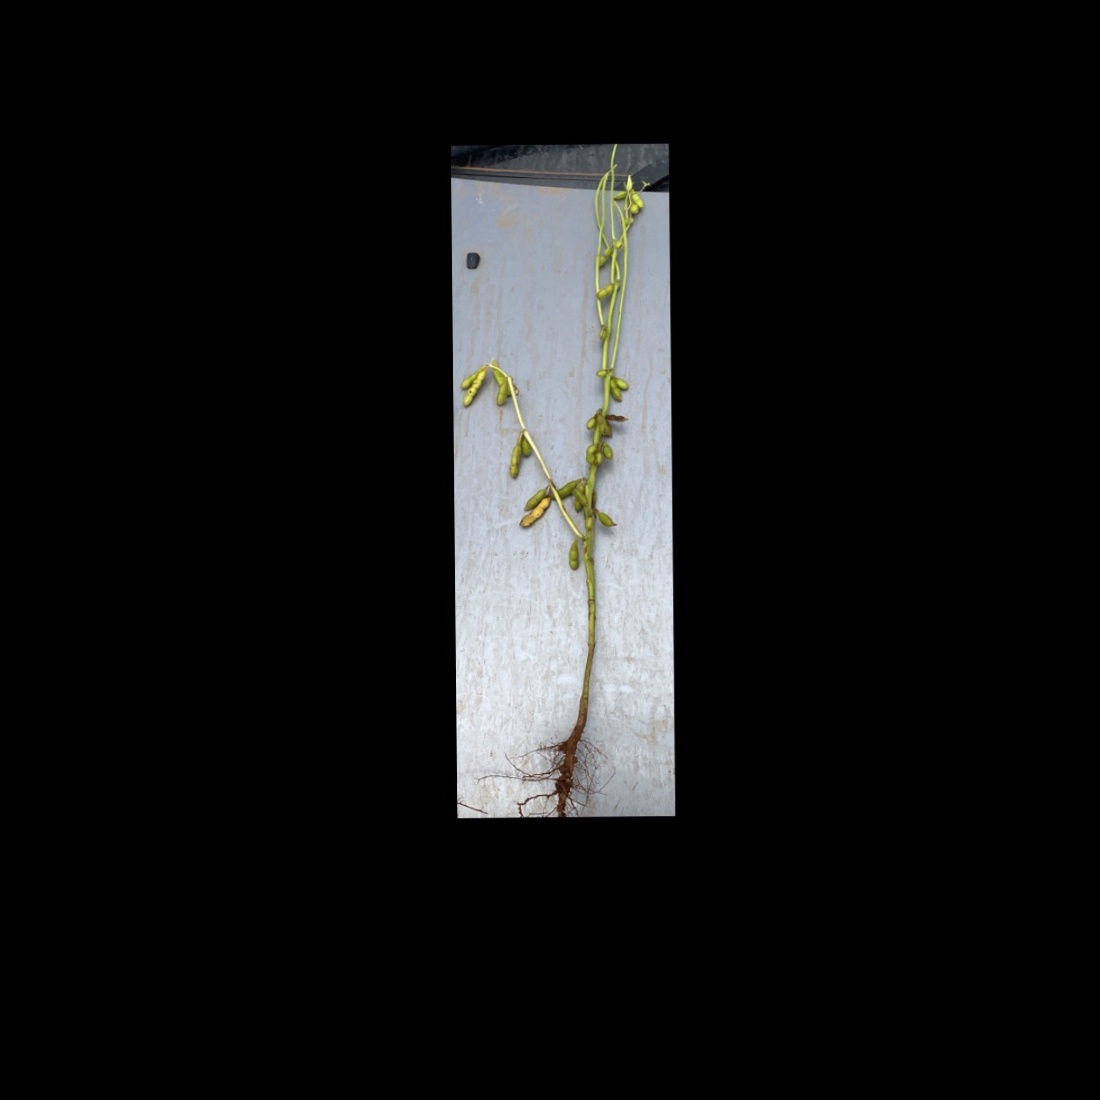pod: (592, 506, 618, 531), (507, 444, 522, 484), (567, 538, 583, 571), (593, 278, 617, 300), (594, 243, 611, 269), (493, 380, 507, 411), (599, 441, 617, 460), (582, 444, 596, 465), (604, 412, 631, 423), (610, 189, 627, 202)
soy: (454, 152, 659, 782)
